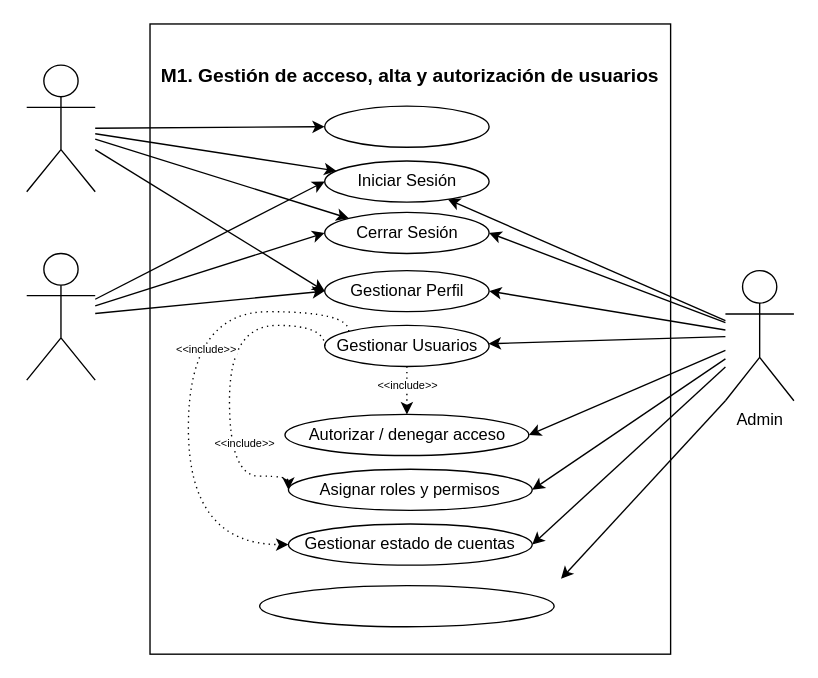
The diagram is 818 pixels wide and 678 high, and some of its shapes have lost their labels. Each missing label, with the box of its shape:
Cliente: (25, 64, 95, 192)
Comercial: (25, 252, 95, 380)
Consultar trazabilidad de usuarios: (258, 584, 554, 627)
Solicitar Acceso: (323, 105, 489, 147)
